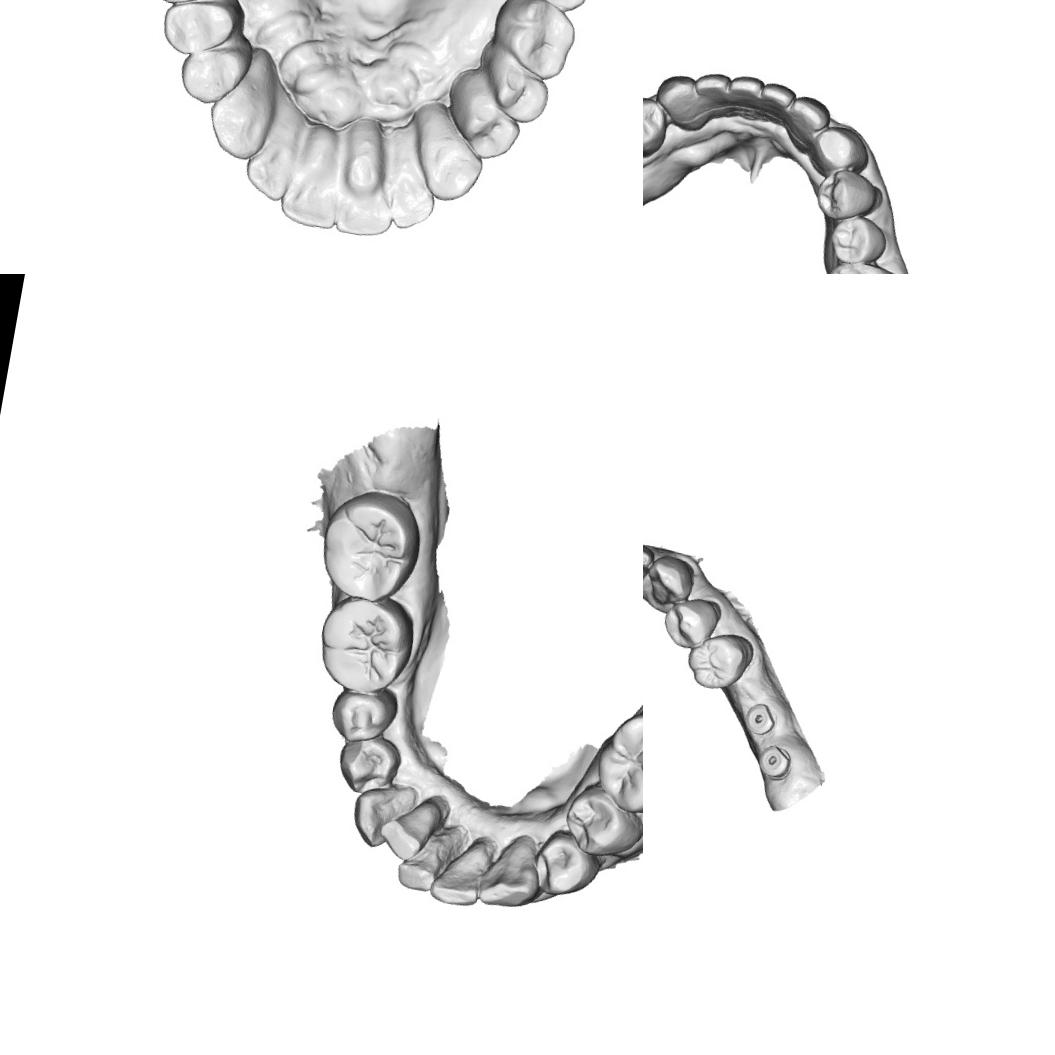canine: (201, 40, 284, 164), (410, 114, 490, 206), (473, 829, 546, 912), (346, 780, 417, 852), (802, 119, 874, 184), (643, 549, 698, 610), (649, 70, 699, 134)
implant: (754, 740, 795, 782), (741, 699, 778, 739)
incisor: (333, 119, 408, 241), (276, 118, 350, 232), (374, 124, 447, 234), (241, 87, 306, 204), (374, 790, 444, 866), (425, 834, 490, 909), (388, 828, 446, 896), (782, 92, 833, 154), (686, 68, 732, 122), (755, 81, 798, 128), (724, 71, 766, 119), (643, 535, 657, 588)
molar: (312, 484, 429, 608), (310, 589, 418, 701), (485, 0, 580, 83), (587, 704, 643, 823), (815, 255, 904, 274)
premolar: (438, 68, 528, 166), (469, 38, 555, 126), (175, 25, 256, 110), (556, 787, 643, 865), (525, 824, 602, 904), (324, 678, 402, 750), (156, 0, 245, 63), (681, 626, 757, 696), (331, 728, 405, 799), (811, 163, 884, 226), (658, 592, 724, 654), (824, 210, 890, 270), (643, 92, 672, 161)
